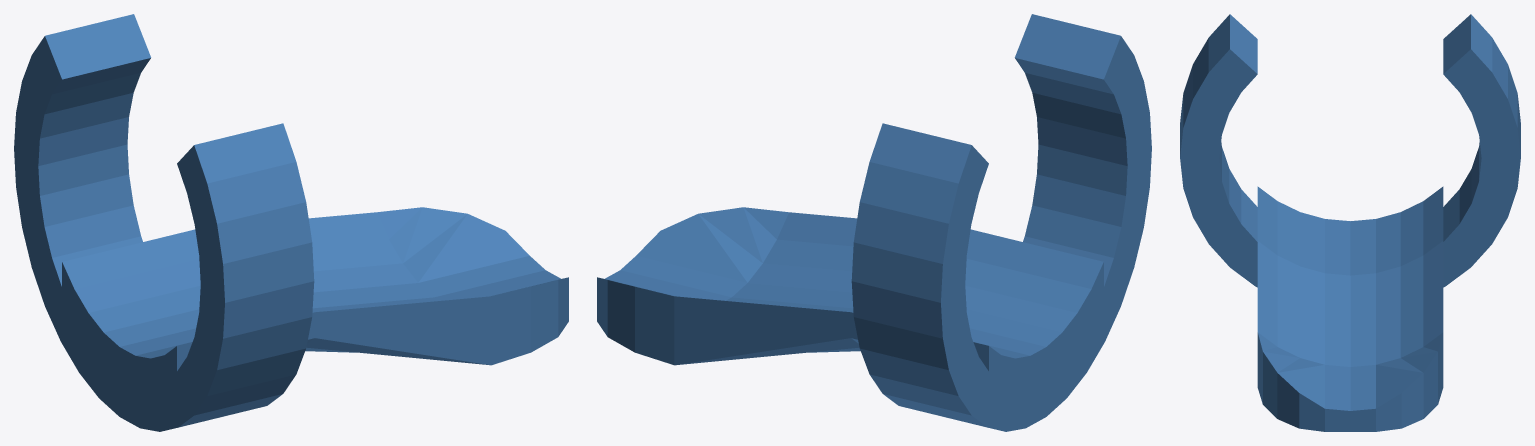
Rendered from VIS_WristLink1.dae.
The picture shows the model from 3 angles, left to right: view 1: azimuth 30°, elevation 25°; view 2: azimuth 150°, elevation 25°; view 3: azimuth 270°, elevation 25°; orthographic projection. The views are drawn at different scales.
Parts seen in each view (by area): view 1: VIS_WristLink1; view 2: VIS_WristLink1; view 3: VIS_WristLink1.
Part boxes in pixels (bbox=[...]): VIS_WristLink1: bbox=[14, 14, 568, 431]; VIS_WristLink1: bbox=[597, 14, 1151, 431]; VIS_WristLink1: bbox=[1180, 14, 1520, 431].
Bounding box in the file's own units: 0.1354 × 0.1161 × 0.0991.
